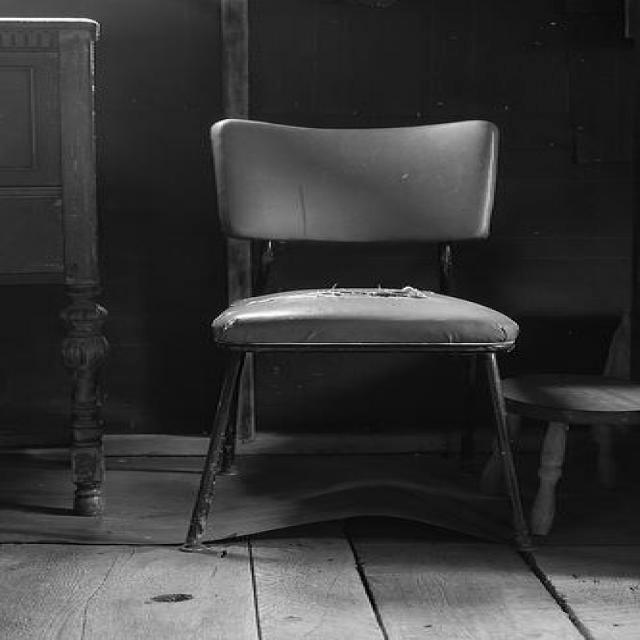chair: (177, 115, 543, 552)
